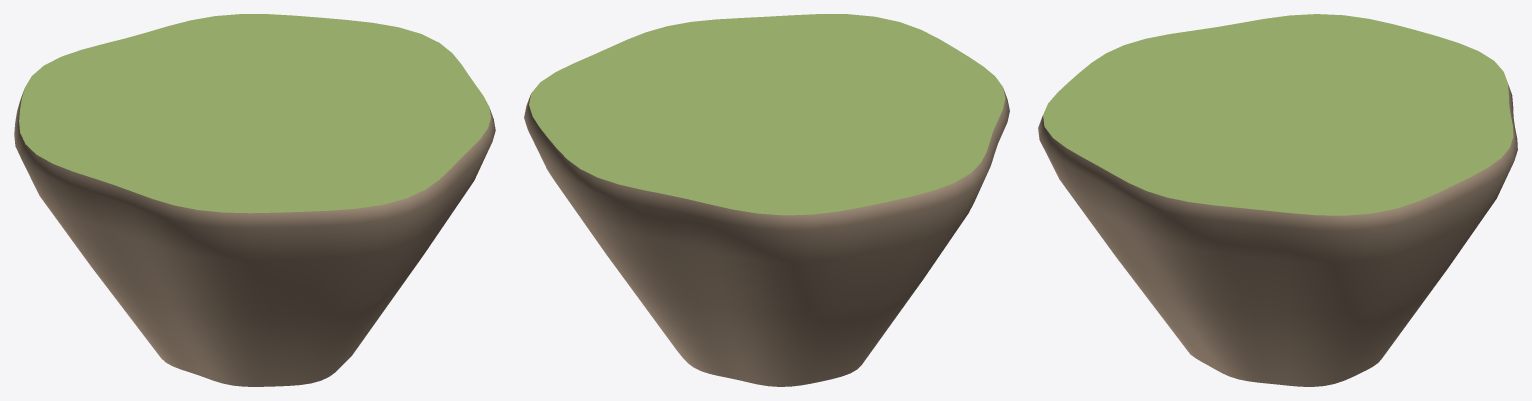
Rendered from island.gltf.
The picture shows the model from 3 angles, left to right: view 1: azimuth 30°, elevation 25°; view 2: azimuth 150°, elevation 25°; view 3: azimuth 270°, elevation 25°; orthographic projection.
Visible parts, largest first — view 1: island; view 2: island; view 3: island.
Part boxes in pixels (x1,y1,x2,y2): island: (14, 14, 495, 386); island: (524, 14, 1009, 386); island: (1038, 14, 1517, 386).
Bounding box in the file's own units: 74.98 × 44.76 × 73.87.
